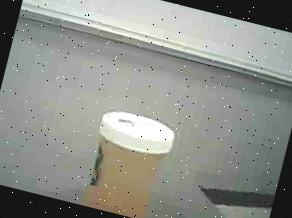Bottle B: (81, 106, 178, 218)
